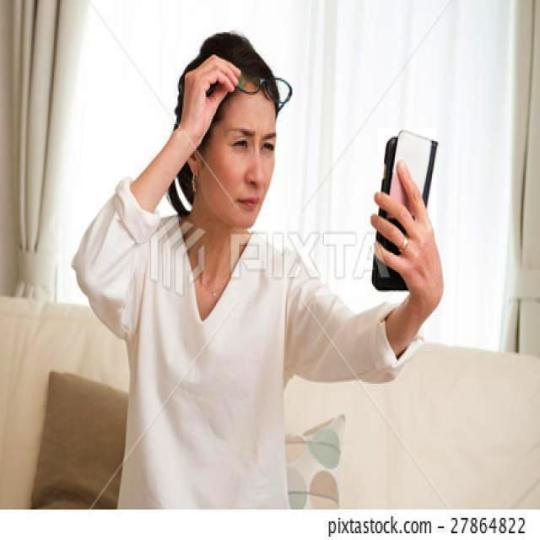phone: (366, 130, 441, 287)
